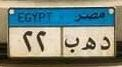2: (21, 29, 33, 54), (36, 30, 49, 53)
baa: (64, 36, 80, 54)
daal: (99, 35, 111, 52)
haa: (81, 35, 97, 53)
